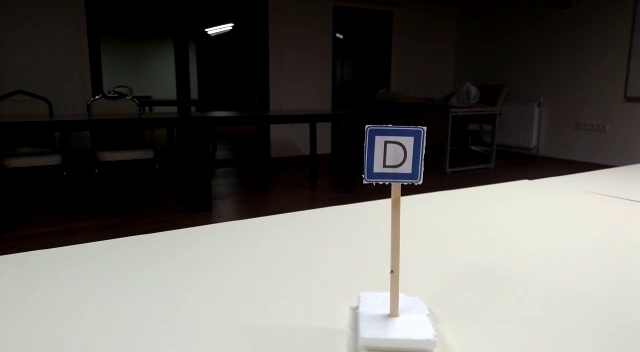durak: (363, 125, 425, 182)
